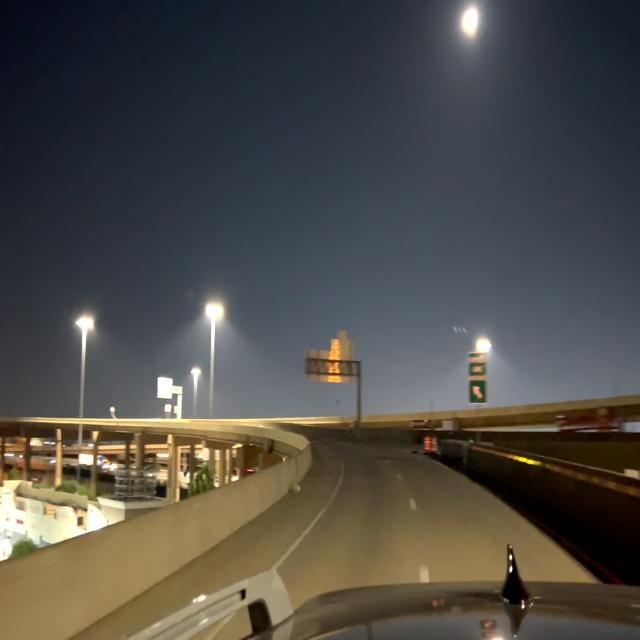back-of-sign: (306, 331, 352, 384)
